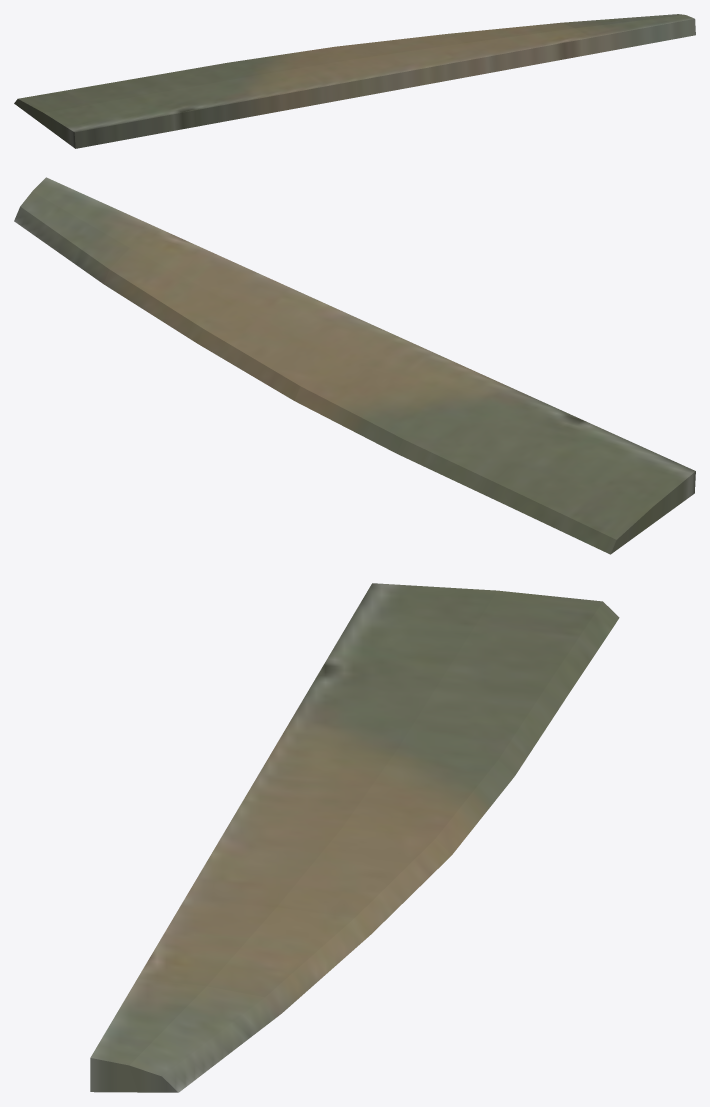
Rendered from wingflaps_left.obj.
3 renders of one model, top to bottom at view 1: azimuth 30°, elevation 25°; view 2: azimuth 150°, elevation 25°; view 3: azimuth 270°, elevation 25°, orthographic. The views are drawn at different scales.
Parts seen in each view (by area): view 1: SF_StearingLeft_Plane.002; view 2: SF_StearingLeft_Plane.002; view 3: SF_StearingLeft_Plane.002.
Boxes of the visible parts, x1,y1,x2,y2 form: SF_StearingLeft_Plane.002: [14, 14, 695, 148]; SF_StearingLeft_Plane.002: [14, 177, 695, 554]; SF_StearingLeft_Plane.002: [90, 583, 619, 1092].
Size of the model in its own units: 1.5 by 0.1241 by 0.6233.
Materials: 1 (1 with a texture image).
